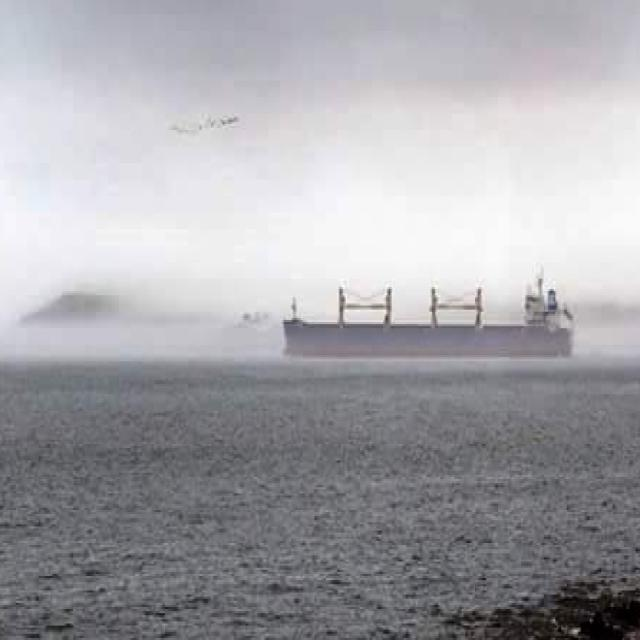cargoship: (277, 265, 573, 361)
